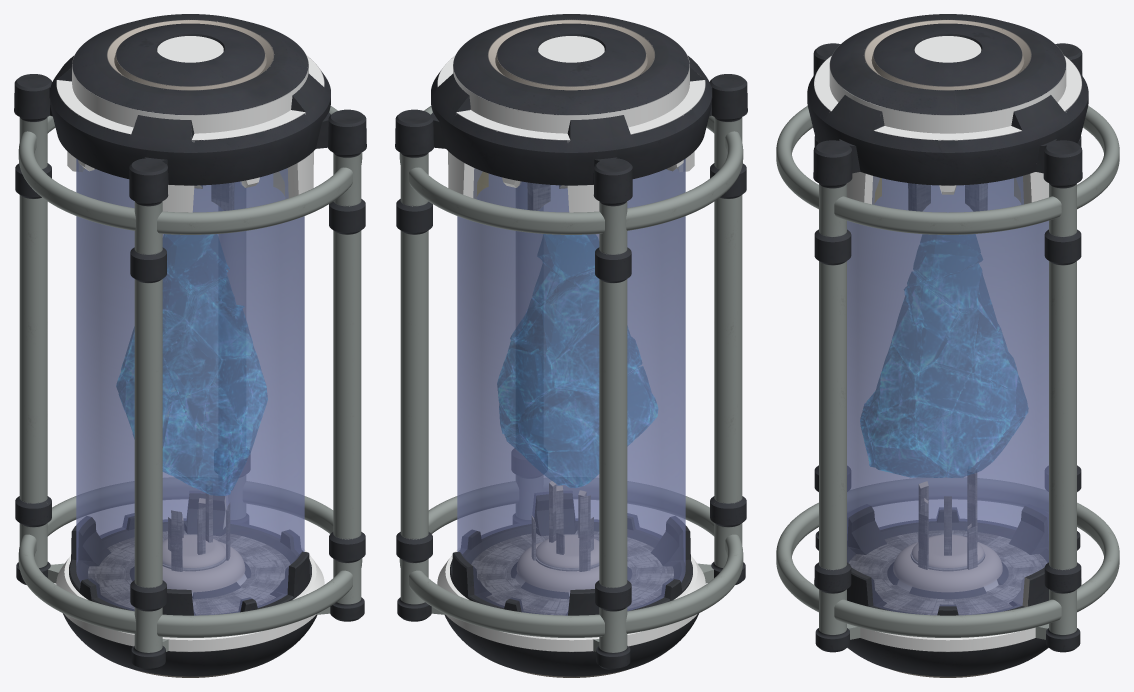
The model's file is crystal_capsule.glb.
3 renders of one model, left to right at view 1: azimuth 30°, elevation 25°; view 2: azimuth 150°, elevation 25°; view 3: azimuth 270°, elevation 25°, orthographic.
Parts seen in each view (by area): view 1: A_CapsuleSealed_LOD0, A_Crystal; view 2: A_CapsuleSealed_LOD0, A_Crystal; view 3: A_CapsuleSealed_LOD0, A_Crystal.
Boxes of the visible parts, x1=… form: A_CapsuleSealed_LOD0: x1=14, y1=14, x2=366, y2=677; A_Crystal: x1=116, y1=234, x2=267, y2=495; A_CapsuleSealed_LOD0: x1=395, y1=14, x2=747, y2=677; A_Crystal: x1=497, y1=234, x2=657, y2=487; A_CapsuleSealed_LOD0: x1=776, y1=14, x2=1119, y2=677; A_Crystal: x1=860, y1=234, x2=1028, y2=477.
Size of the model in its own units: 0.5906 by 1.15 by 0.5906.
5 materials, 5 textured.
